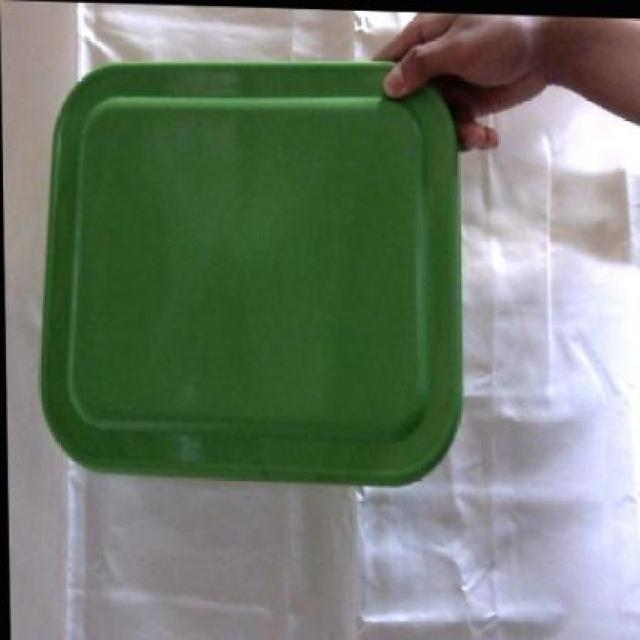Plastic: (35, 48, 470, 497)
